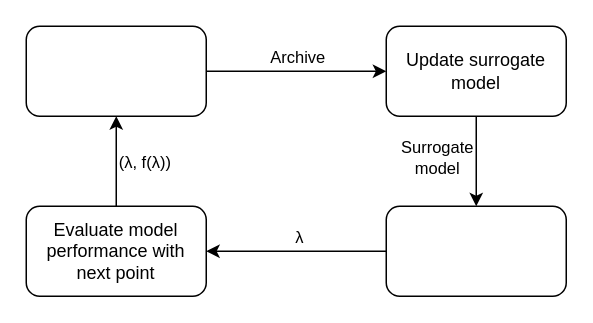
Image size: 593x323. Some labels were removed from this diagram. The shapes that lost their labels are listed below. From the top down, each one's centre as x and y in pixels, then its label:
At (x=115, y=70): "Update archive with observed value".
At (x=475, y=250): "Update and optimize acquisition function".
